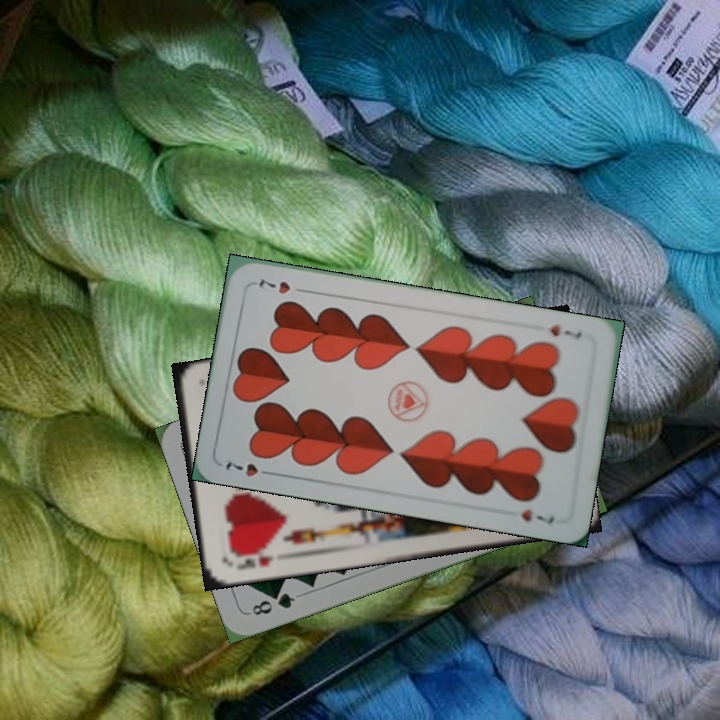G8: (247, 589, 298, 618)
H7: (221, 457, 278, 480), (545, 321, 585, 342)
HK: (232, 551, 277, 573)
